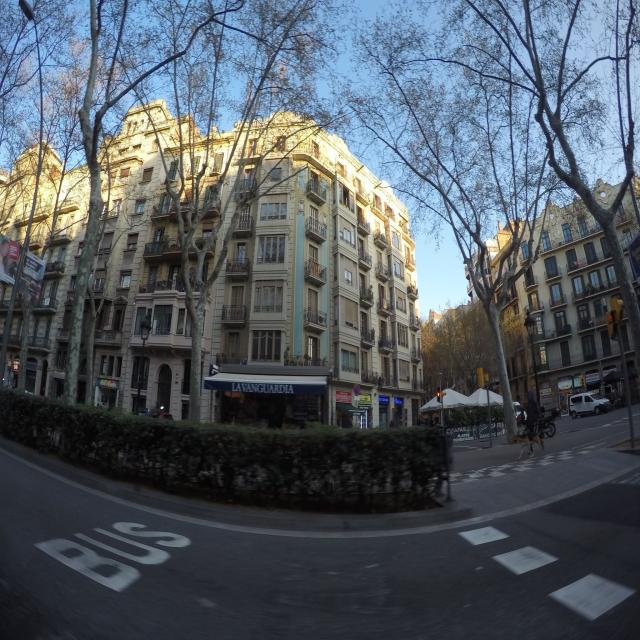forb_stopping: (353, 384, 359, 396)
